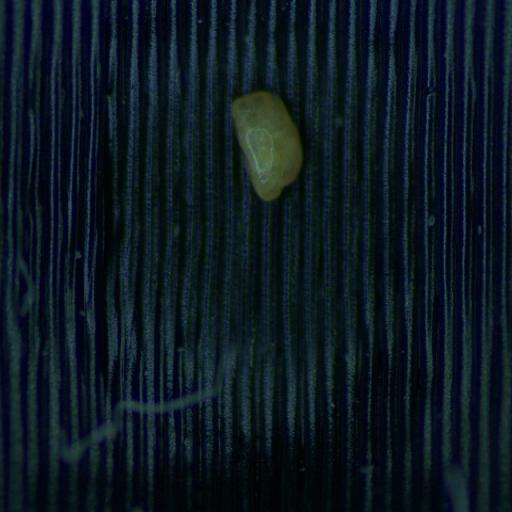mineral: (231, 89, 303, 198)
